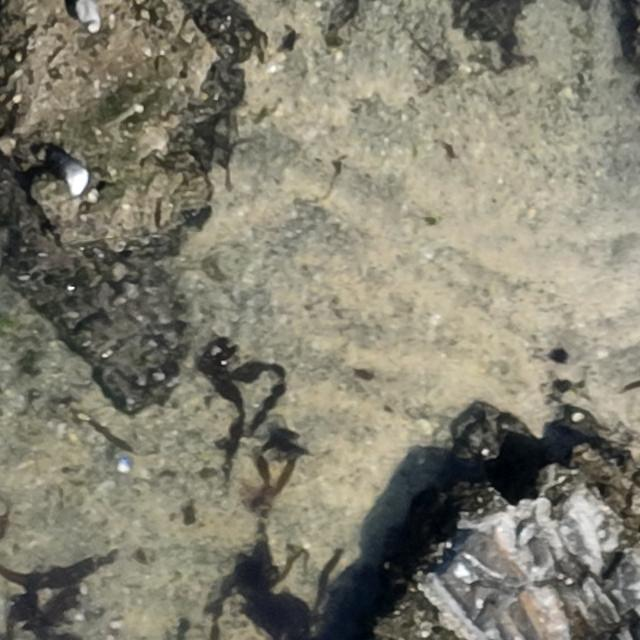umineko: (59, 158, 89, 194), (76, 2, 98, 31)
